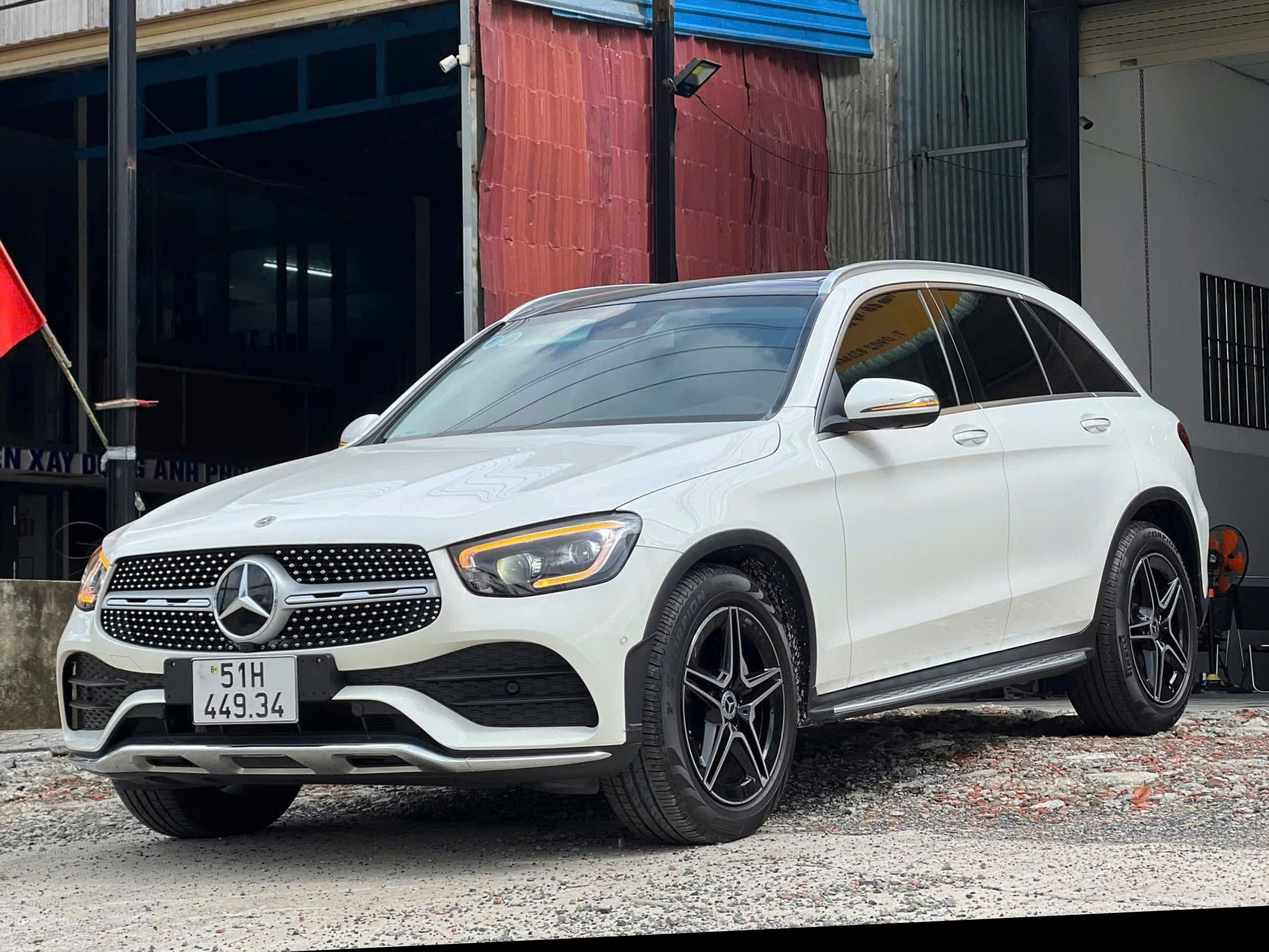Bien-so: (167, 644, 271, 710)
